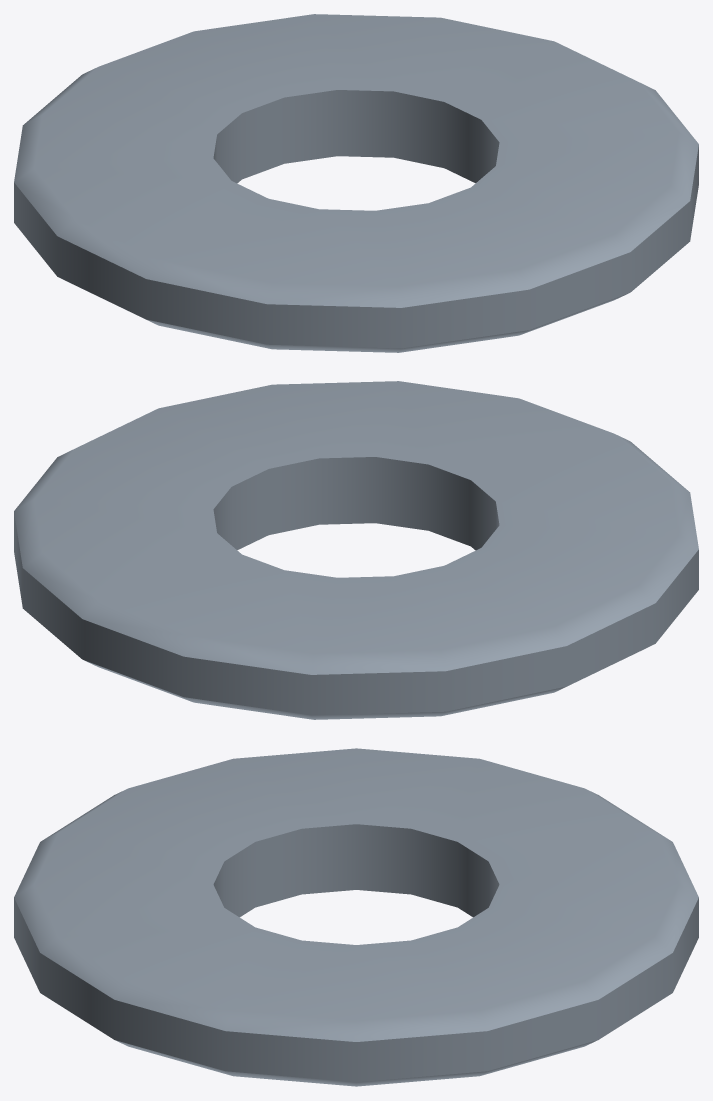
The model's file is SM_Washer.fbx.
3 renders of one model, top to bottom at view 1: azimuth 30°, elevation 25°; view 2: azimuth 150°, elevation 25°; view 3: azimuth 270°, elevation 25°, orthographic.
Visible parts, largest first — view 1: SM_Washer; view 2: SM_Washer; view 3: SM_Washer.
Part boxes in pixels (x1,y1,x2,y2): SM_Washer: [14, 14, 698, 352]; SM_Washer: [14, 381, 698, 719]; SM_Washer: [14, 748, 698, 1086].
Size of the model in its own units: 1.7 by 1.7 by 0.18.
